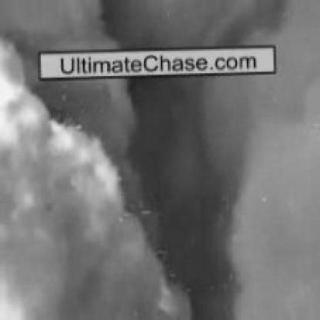Smoke: (2, 55, 304, 311)
